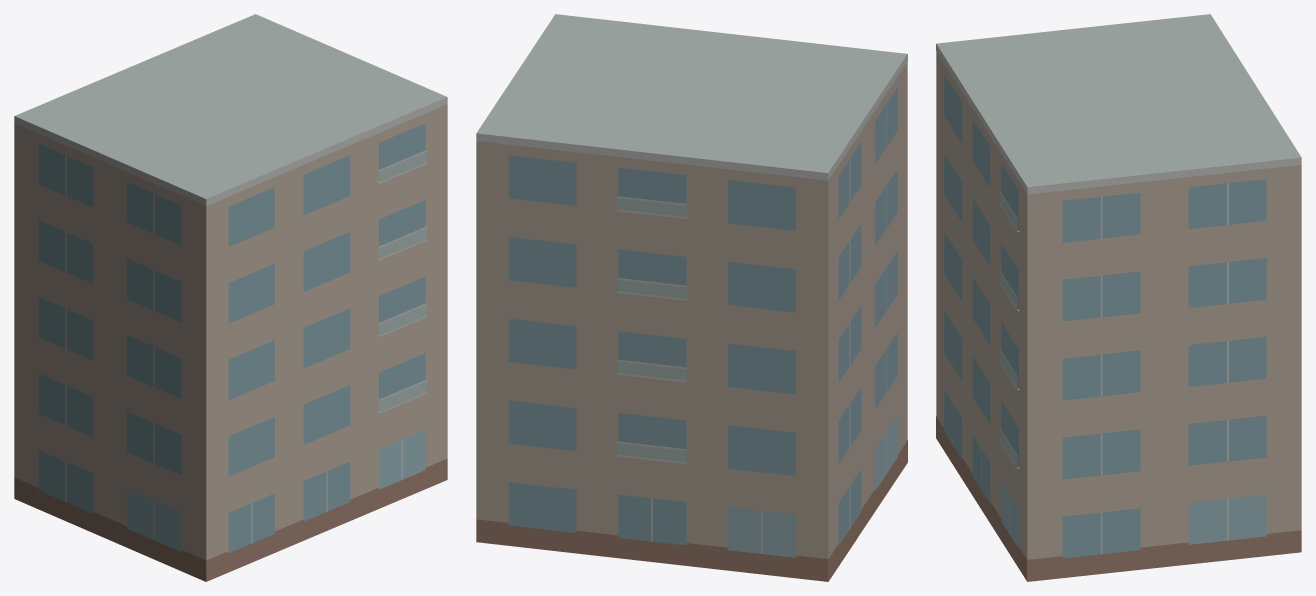
File: survey-upis-32696036.glb
3 renders of one model, left to right at view 1: azimuth 30°, elevation 25°; view 2: azimuth 150°, elevation 25°; view 3: azimuth 270°, elevation 25°, orthographic. The views are drawn at different scales.
Visible parts, largest first — view 1: survey-upis-32696036.tmp; view 2: survey-upis-32696036.tmp; view 3: survey-upis-32696036.tmp.
Part boxes in pixels (x1=…): survey-upis-32696036.tmp: x1=14, y1=14, x2=447, y2=581; survey-upis-32696036.tmp: x1=476, y1=14, x2=907, y2=581; survey-upis-32696036.tmp: x1=936, y1=14, x2=1301, y2=581.
Bounding box in the file's own units: 12.53 × 13.3 × 11.18.
